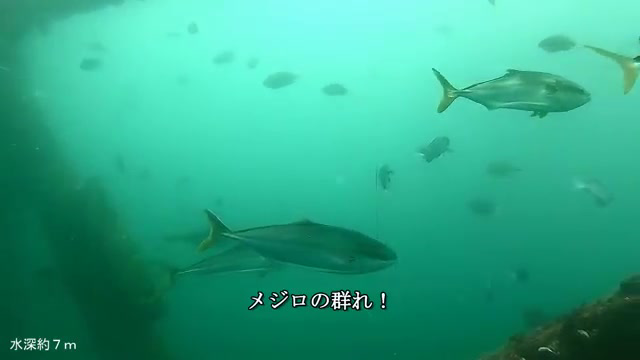hamati: (191, 199, 412, 277), (417, 58, 599, 115)
smallfish: (250, 62, 304, 101), (528, 28, 576, 54), (413, 135, 455, 162)
